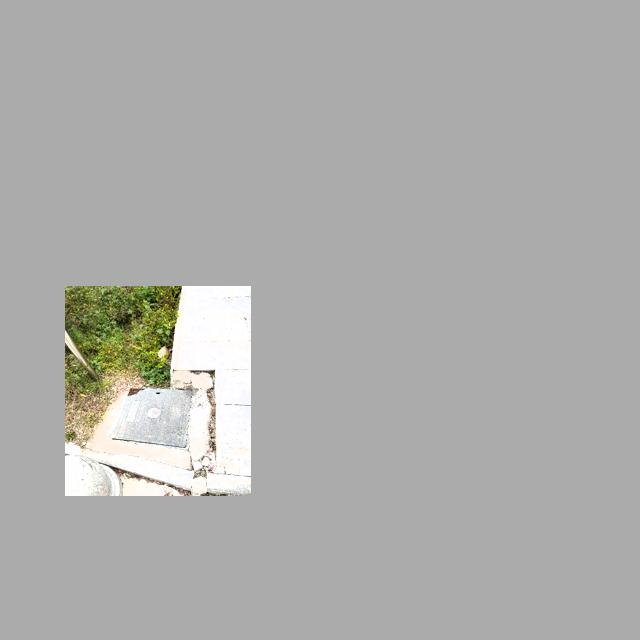broke: (107, 386, 194, 450)
